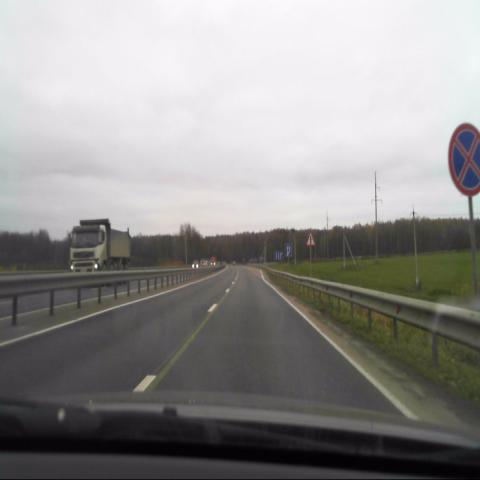2_3_2: (306, 232, 315, 247)
3_27: (448, 122, 480, 201)
5_15_1: (274, 249, 284, 261)
5_15_3: (285, 243, 292, 256)
